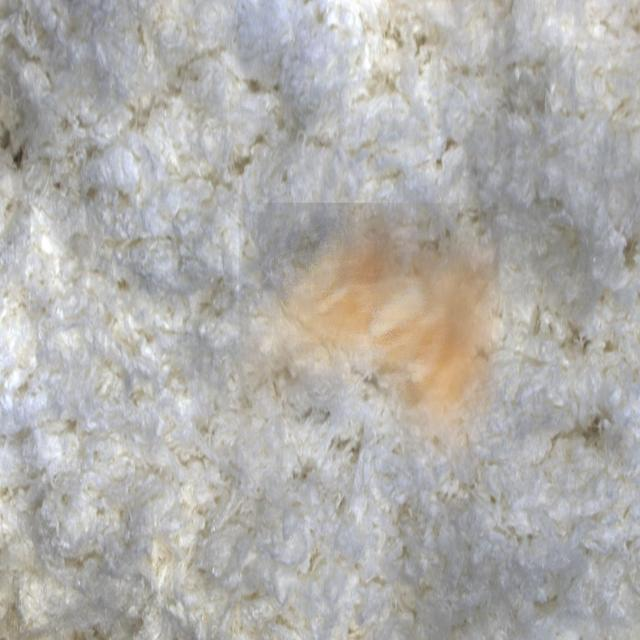dust: (239, 203, 500, 467)
